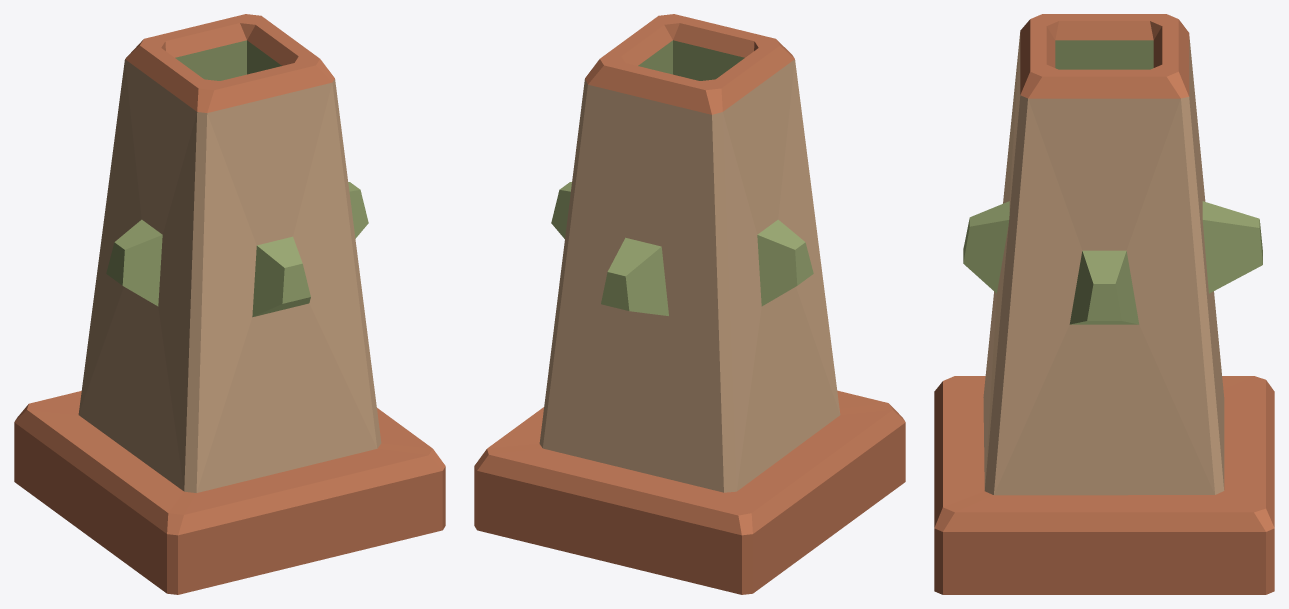
Rendered from PlatformSpout.fbx.
The picture shows the model from 3 angles, left to right: view 1: azimuth 30°, elevation 25°; view 2: azimuth 150°, elevation 25°; view 3: azimuth 270°, elevation 25°; orthographic projection. The views are drawn at different scales.
Visible parts, largest first — view 1: Cube; view 2: Cube; view 3: Cube.
Part boxes in pixels (box(x1,y1,x2,y2)): Cube: box(14, 14, 445, 594); Cube: box(474, 14, 905, 594); Cube: box(934, 14, 1274, 594).
Bounding box in the file's own units: 183 × 284 × 183.
